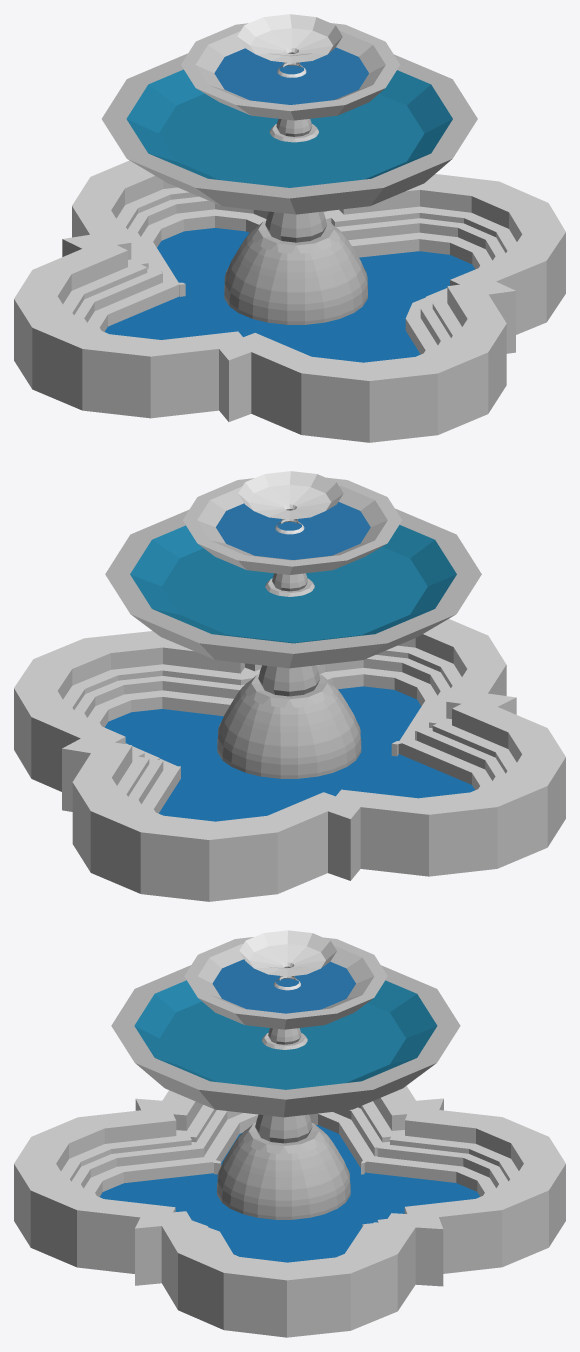
Rendered from fountain.gltf.
3 renders of one model, top to bottom at view 1: azimuth 30°, elevation 25°; view 2: azimuth 150°, elevation 25°; view 3: azimuth 270°, elevation 25°, orthographic. The views are drawn at different scales.
Parts seen in each view (by area): view 1: Circle.003, Circle, Circle.001, Circle.002; view 2: Circle.003, Circle, Circle.001, Circle.002; view 3: Circle.003, Circle, Circle.001, Circle.002.
Part boxes in pixels (x1,y1,x2,y2): Circle.003: [14, 160, 565, 442]; Circle: [102, 53, 477, 324]; Circle.001: [181, 23, 399, 142]; Circle.002: [237, 14, 342, 77]; Circle.003: [14, 619, 565, 901]; Circle: [105, 508, 481, 778]; Circle.001: [182, 477, 402, 596]; Circle.002: [238, 471, 343, 534]; Circle.003: [14, 1086, 565, 1337]; Circle: [111, 965, 460, 1219]; Circle.001: [184, 937, 387, 1049]; Circle.002: [239, 930, 336, 990].
Bounding box in the file's own units: 4.35 × 2.35 × 4.35.
